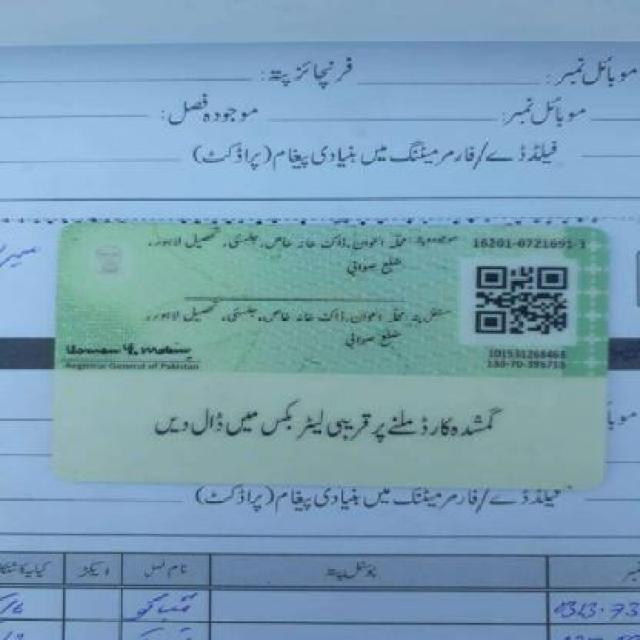Back: (46, 220, 609, 495)
